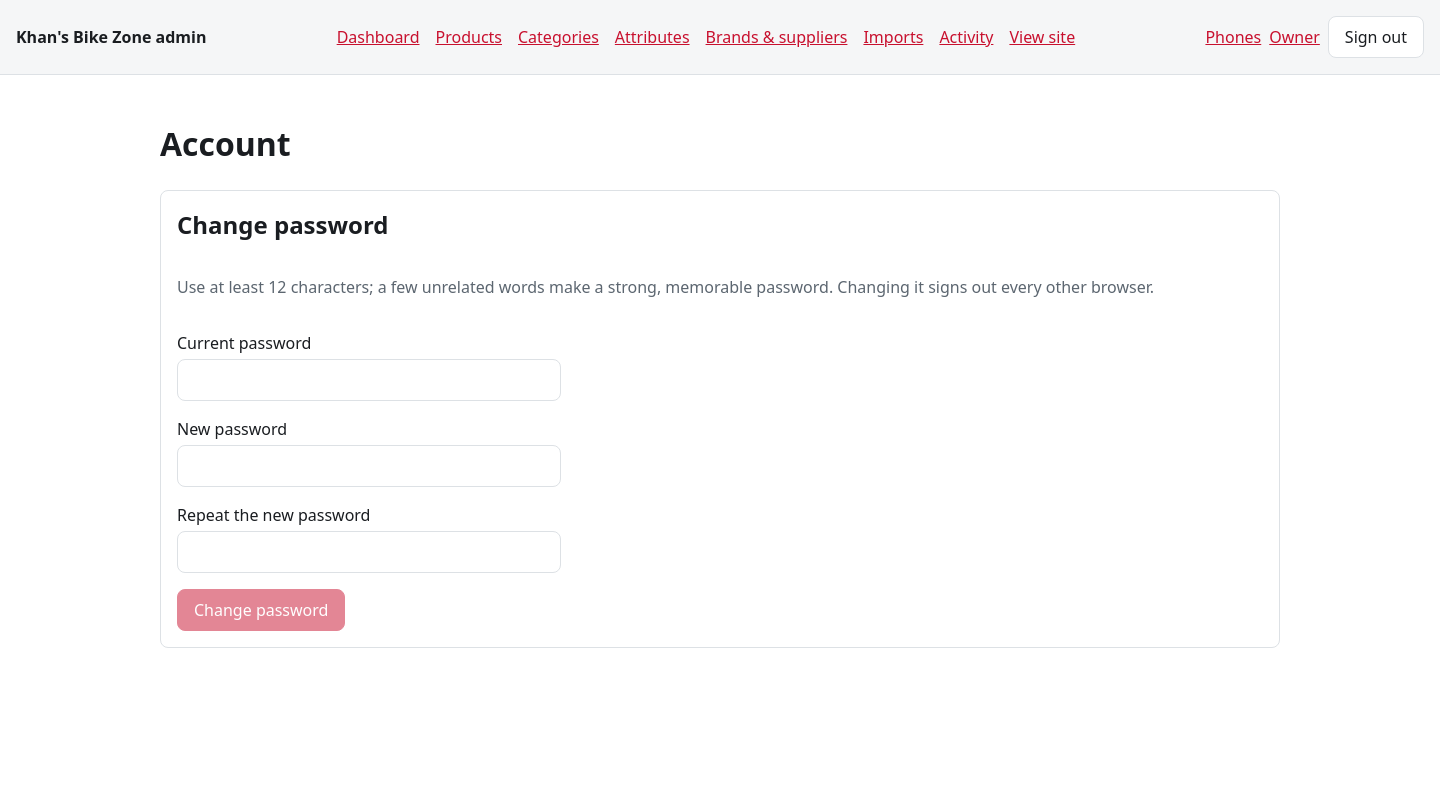
it: account › checks the repeat before asking the server, then changes the password
In the password field labelled "Current password": (369, 380) [177,359,561,401], type "old password here"
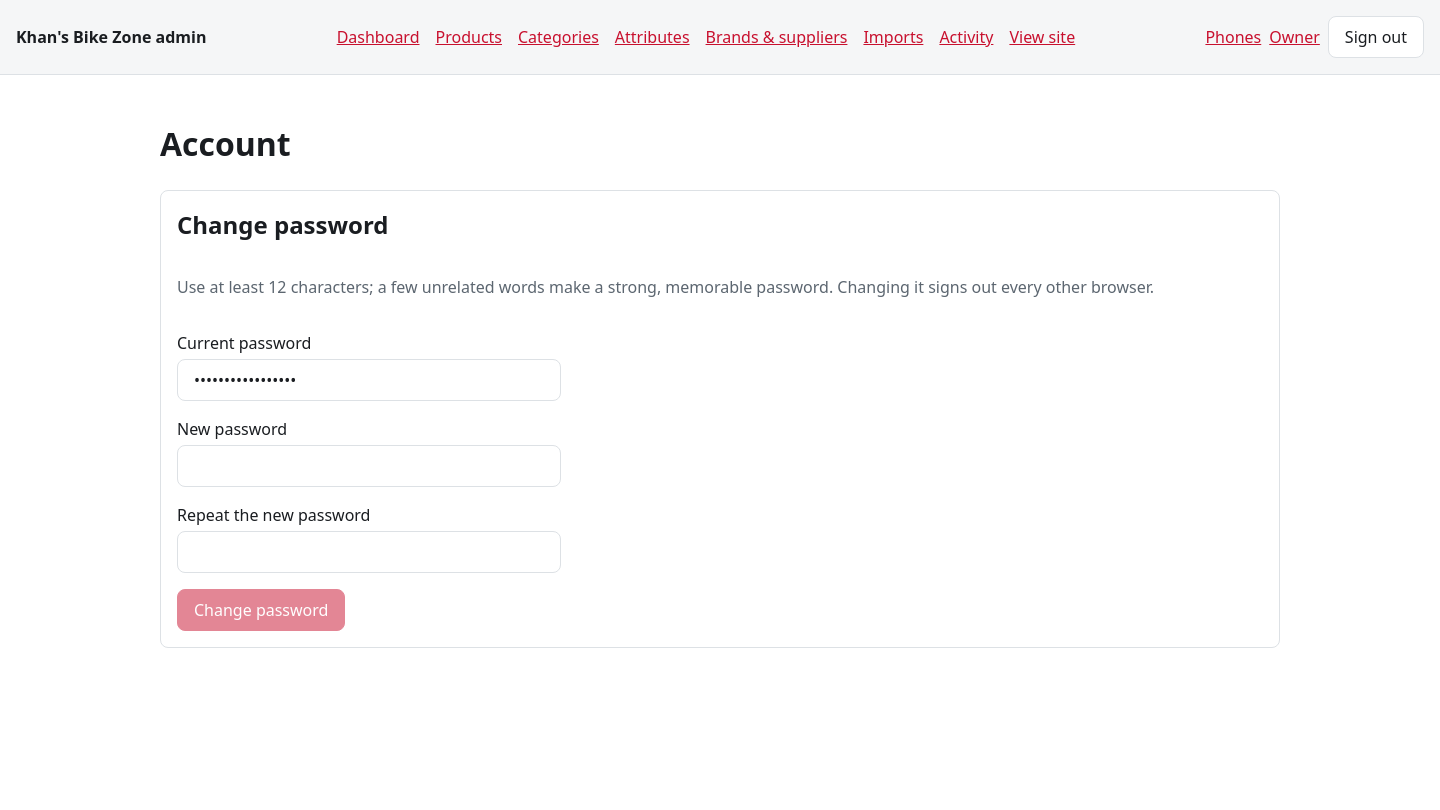
In the password field labelled "New password": (369, 466) [177,445,561,487], type "correct horse battery"
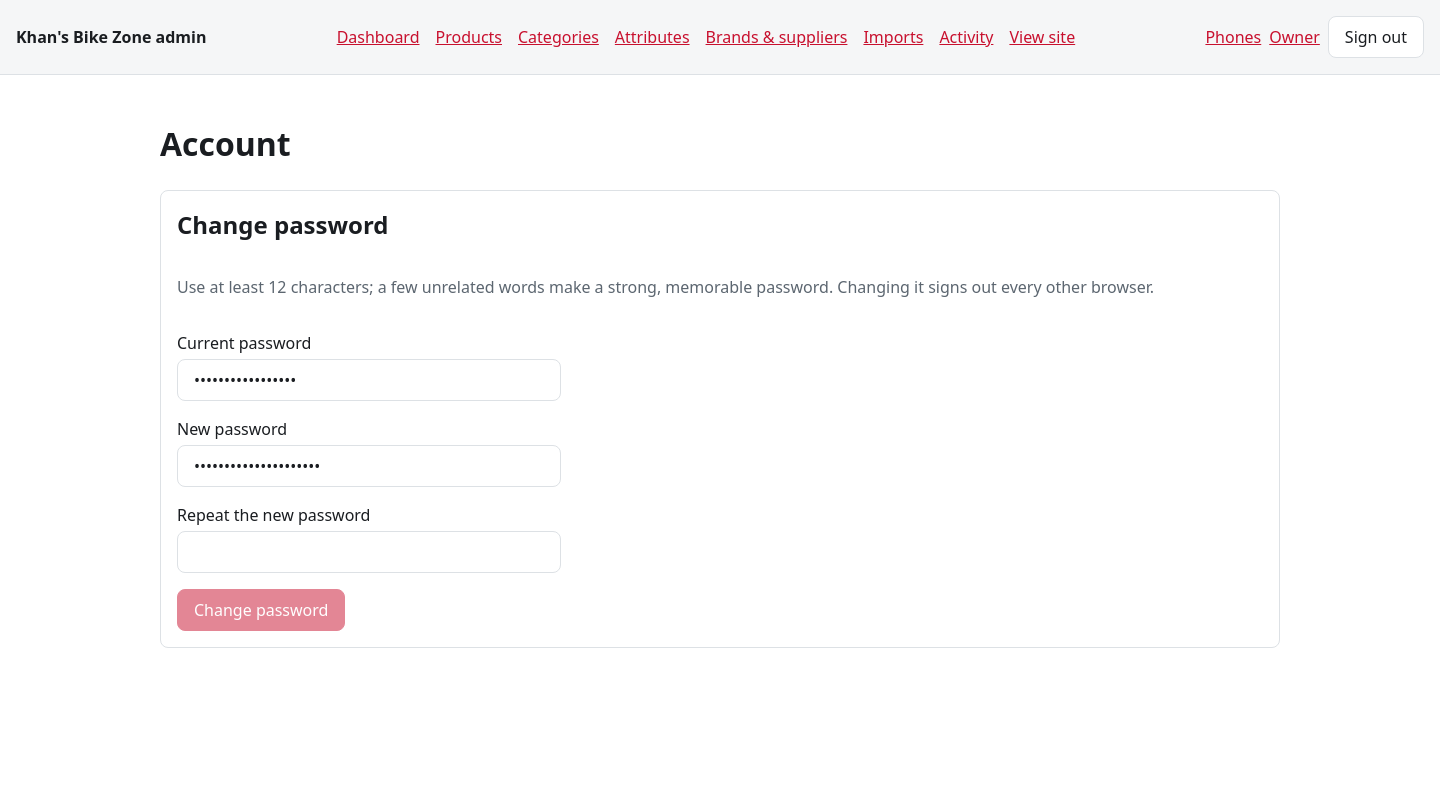
In the password field labelled "Repeat the new password": (369, 552) [177,531,561,573], type "correct horse batter"
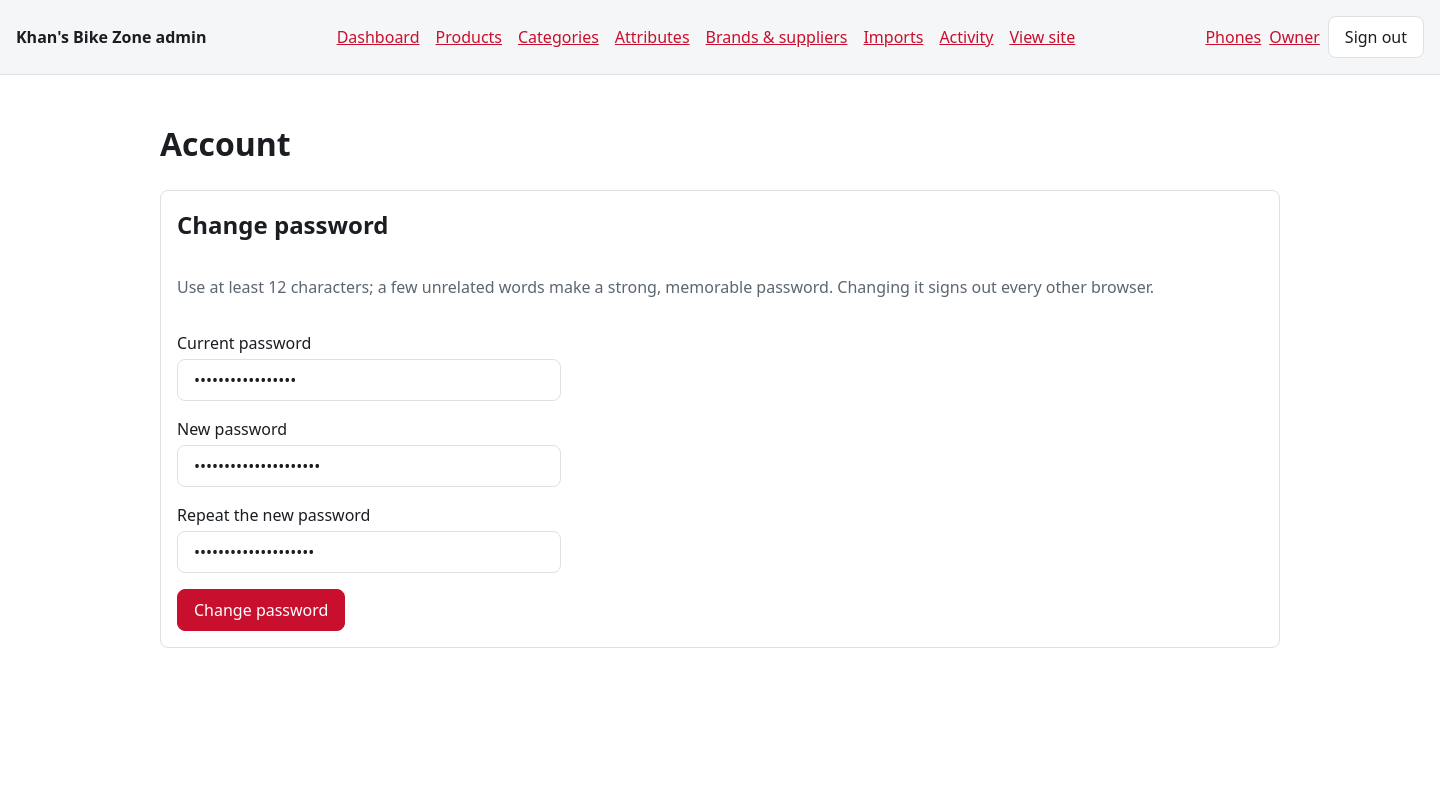
Click the button "Change password": (261, 610) [177,589,345,631]
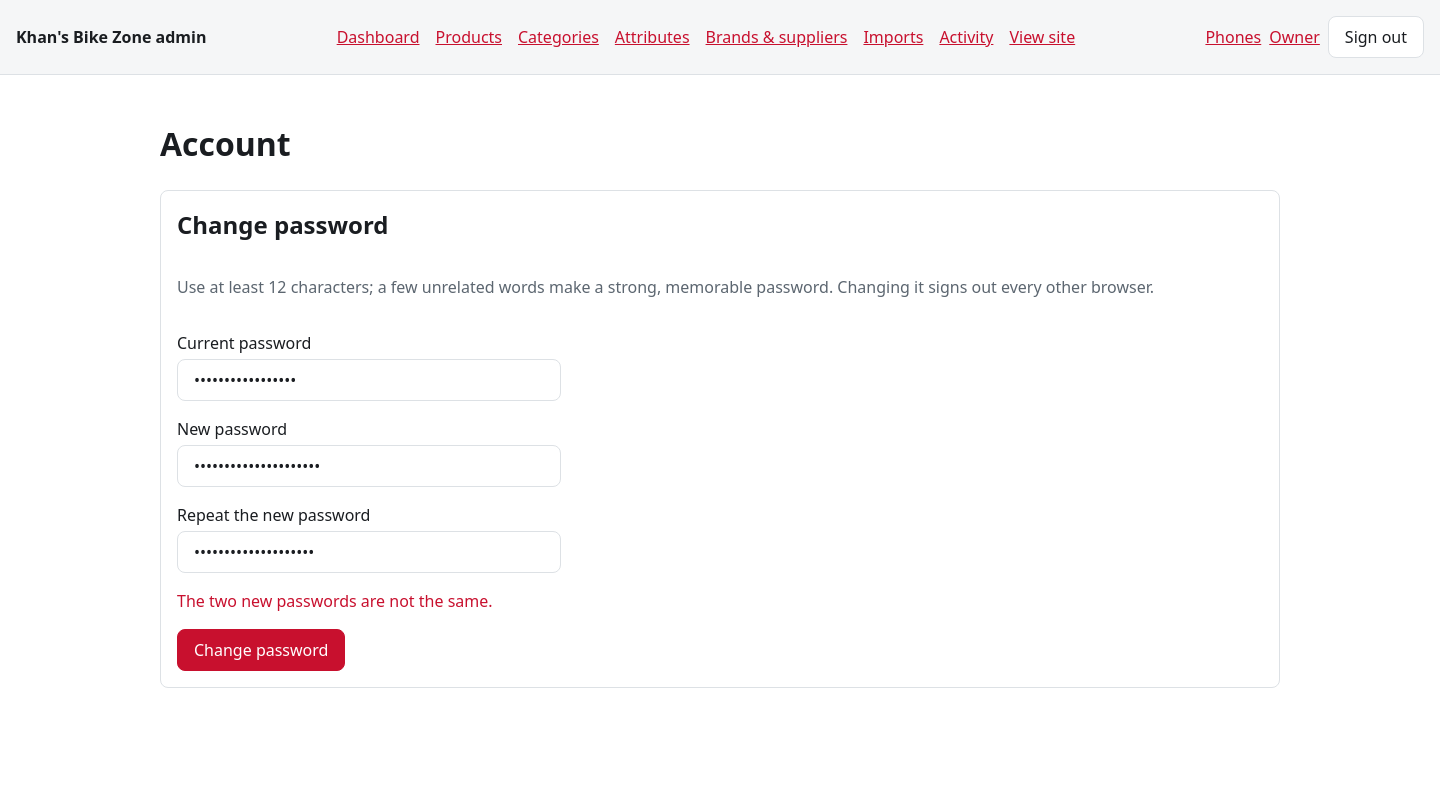
Expected: the message shows "not the same", [177,590,493,612]
In the password field labelled "Repeat the new password": (369, 552) [177,531,561,573], type "correct horse battery"
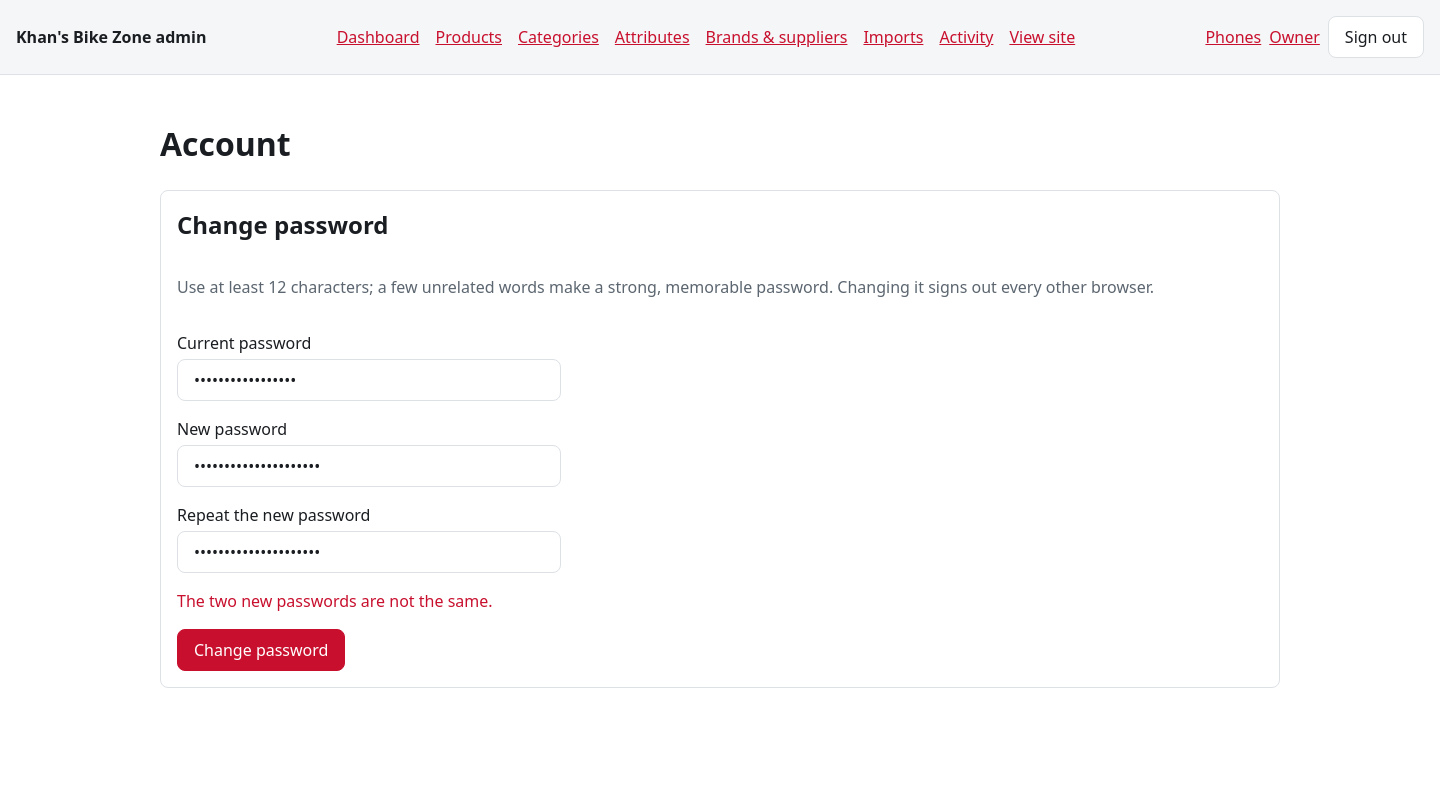
Click the button "Change password": (261, 650) [177,629,345,671]
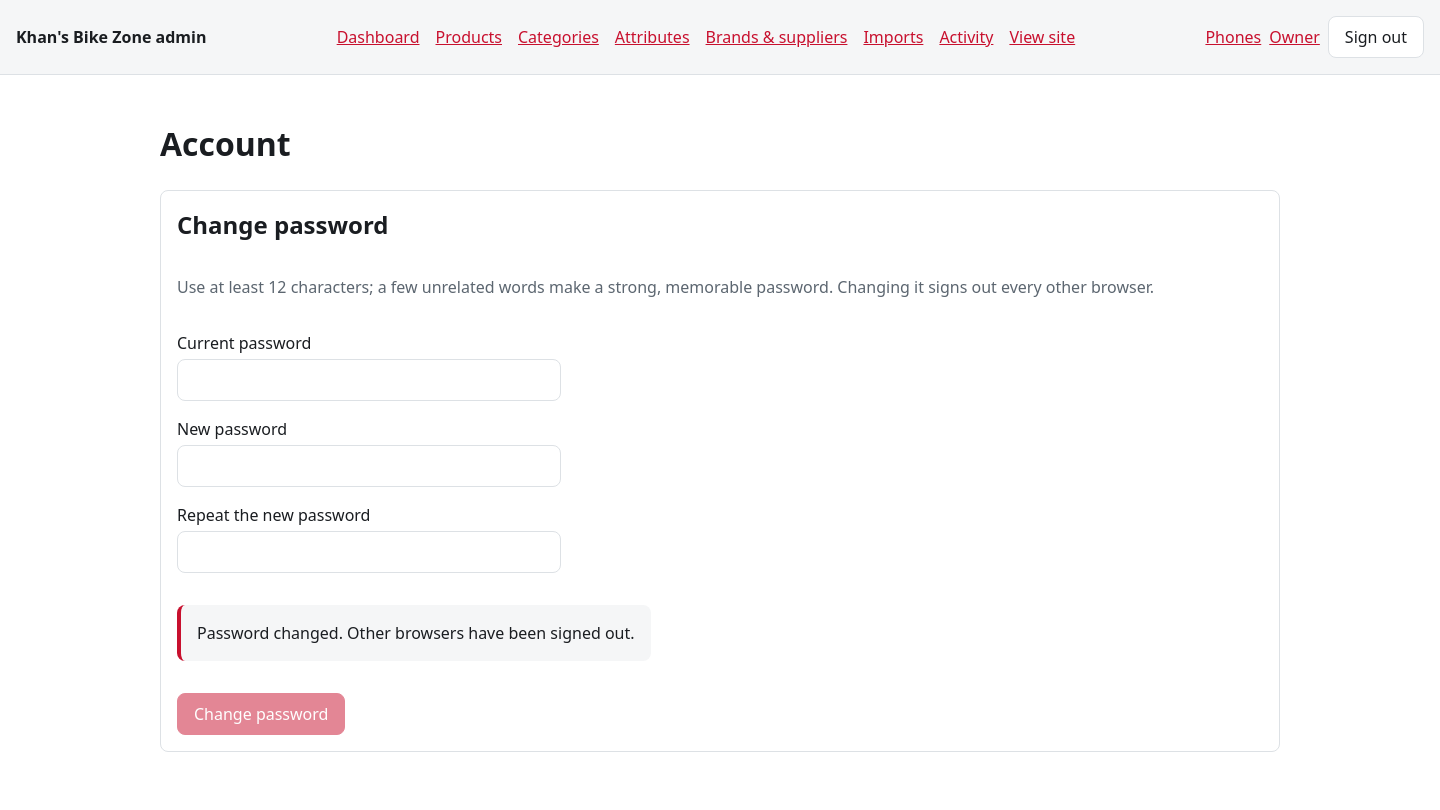
Expected: the text "Password changed. Other browsers have been signed out." is shown, [177,605,650,661]
